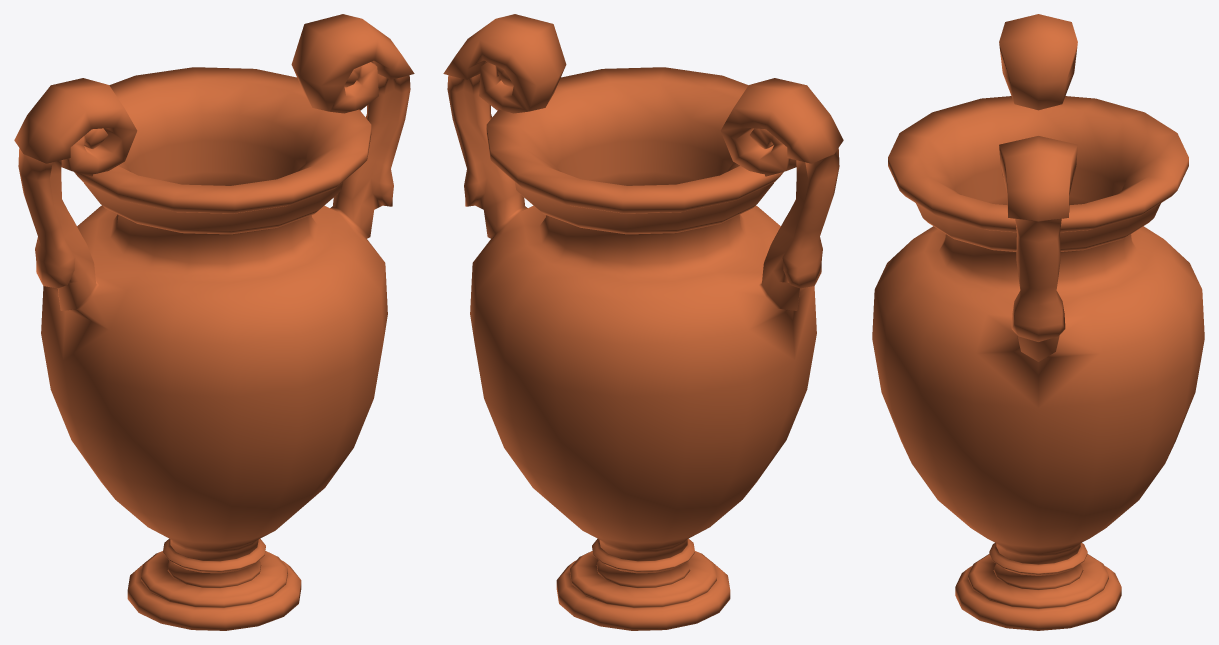
File: VoluteKrater.fbx
The picture shows the model from 3 angles, left to right: view 1: azimuth 30°, elevation 25°; view 2: azimuth 150°, elevation 25°; view 3: azimuth 270°, elevation 25°; orthographic projection. The views are drawn at different scales.
Parts seen in each view (by area): view 1: VoluteKrater; view 2: VoluteKrater; view 3: VoluteKrater.
Boxes of the visible parts, bbox=[...] form: VoluteKrater: bbox=[14, 14, 414, 630]; VoluteKrater: bbox=[443, 14, 843, 630]; VoluteKrater: bbox=[872, 14, 1204, 630].
Size of the model in its own units: 298 by 399 by 234.
